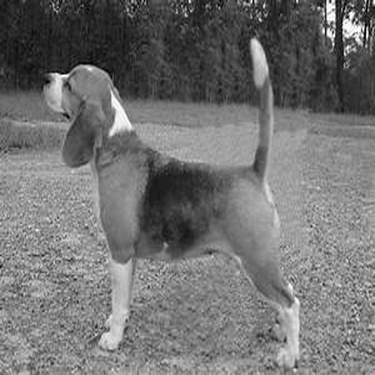dog: (26, 26, 314, 373)
